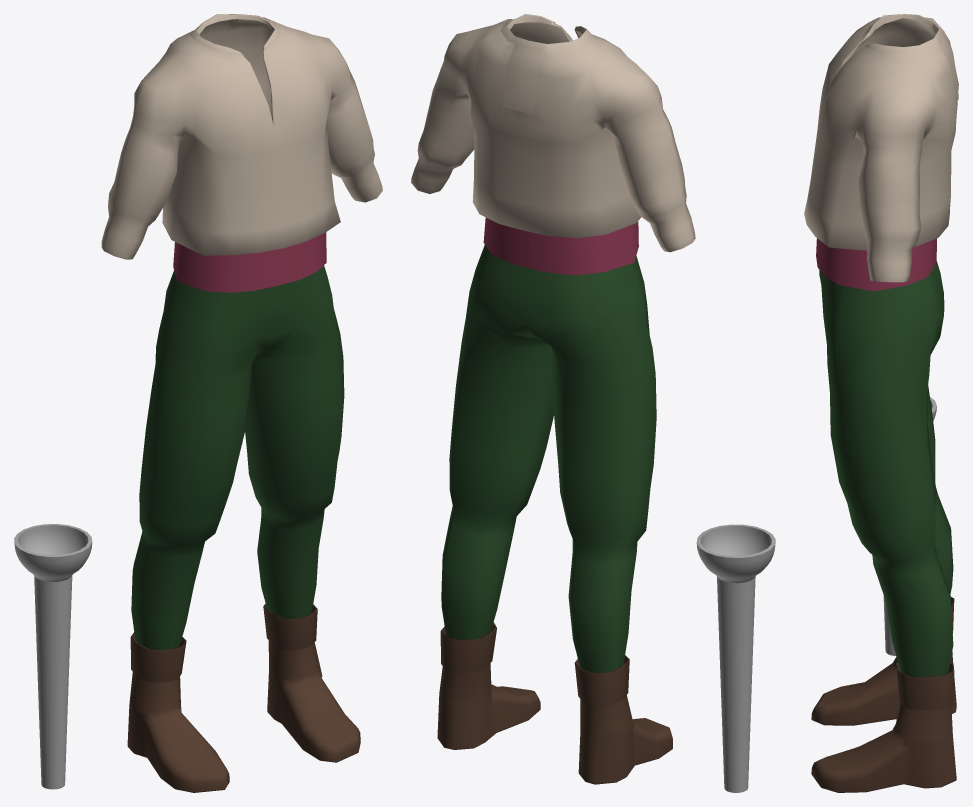
Rendered from Clothes.fbx.
The picture shows the model from 3 angles, left to right: view 1: azimuth 30°, elevation 25°; view 2: azimuth 150°, elevation 25°; view 3: azimuth 270°, elevation 25°; orthographic projection.
Parts seen in each view (by area): view 1: Pants, Shirt, Peg, BootR, BootL, Sash; view 2: Pants, Shirt, Peg, BootL, BootR, Sash; view 3: Pants, Shirt, BootL, BootR, Sash, Peg.
Boxes of the visible parts, x1,y1,x2,y2 form: Pants: (131,265,344,649); Shirt: (101,14,382,259); Peg: (14,524,92,789); BootR: (127,632,229,792); BootL: (263,604,360,762); Sash: (173,232,326,292); Pants: (441,244,656,673); Shirt: (411,14,695,252); Peg: (696,524,775,792); BootL: (437,622,540,749); BootR: (574,655,672,784); Sash: (483,217,638,275); Pants: (819,261,953,676); Shirt: (804,14,958,282); BootL: (811,662,956,792); BootR: (811,597,956,725); Sash: (816,238,936,291); Peg: (883,397,936,655).
Size of the model in its own units: 4.01 by 7.69 by 1.5.
